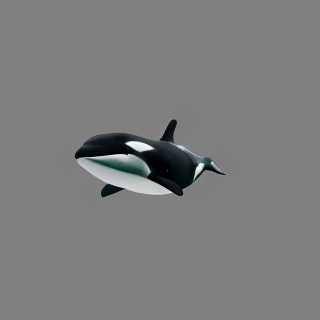Orca whale: (73, 116, 227, 199)
